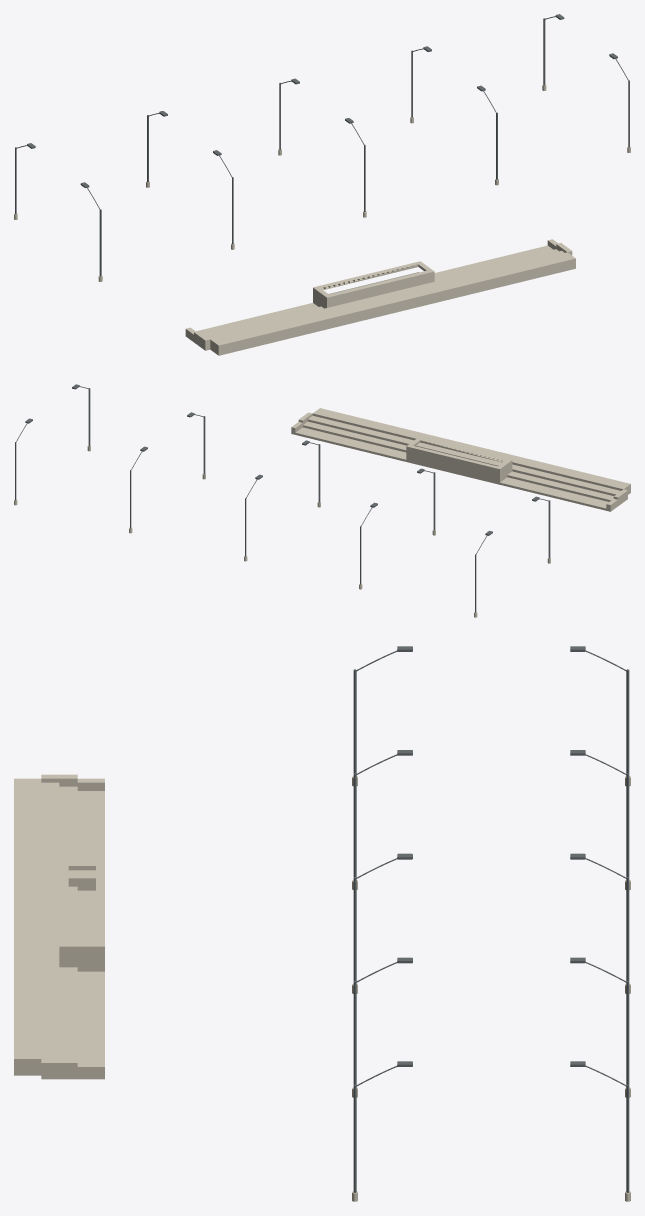
The picture shows the model from 3 angles, top to bottom: view 1: azimuth 30°, elevation 25°; view 2: azimuth 150°, elevation 25°; view 3: azimuth 270°, elevation 25°; orthographic projection. The views are drawn at different scales.
Parts seen in each view (by area): view 1: buildings_s_-1_1_Warm_Limestone, buildings_s_-1_1_Dark_Metal; view 2: buildings_s_-1_1_Warm_Limestone, buildings_s_-1_1_Dark_Metal; view 3: buildings_s_-1_1_Warm_Limestone, buildings_s_-1_1_Dark_Metal.
Boxes of the visible parts, x1=… form: buildings_s_-1_1_Warm_Limestone: x1=14, y1=84, x2=630, y2=355; buildings_s_-1_1_Dark_Metal: x1=15, y1=14, x2=629, y2=276; buildings_s_-1_1_Warm_Limestone: x1=14, y1=408, x2=630, y2=617; buildings_s_-1_1_Dark_Metal: x1=15, y1=384, x2=550, y2=612; buildings_s_-1_1_Warm_Limestone: x1=14, y1=774, x2=630, y2=1201; buildings_s_-1_1_Dark_Metal: x1=353, y1=646, x2=629, y2=1192.
Size of the model in its own units: 109 by 16.75 by 67.84.
